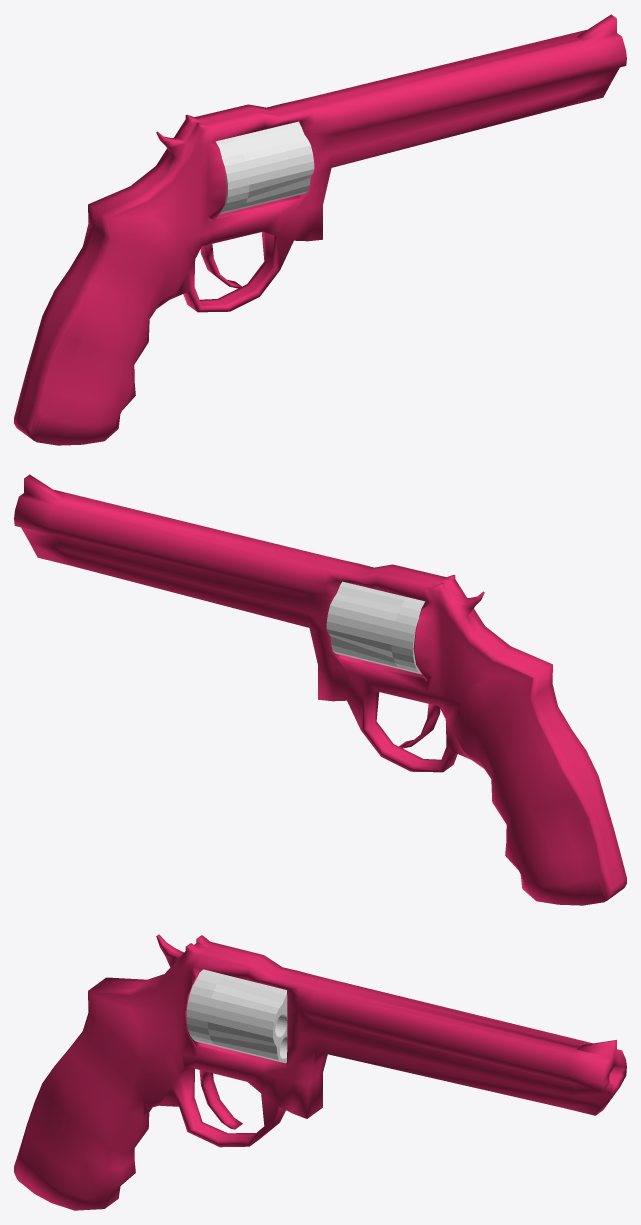
Rendered from gal.glb.
3 views of the same model, one above another, from view 1: azimuth 30°, elevation 25°; view 2: azimuth 150°, elevation 25°; view 3: azimuth 330°, elevation 25° (orthographic).
Parts seen in each view (by area): view 1: Cube, Cylinder; view 2: Cube, Cylinder; view 3: Cube, Cylinder.
Part boxes in pixels (bbox=[...]): Cube: bbox=[14, 14, 626, 445]; Cylinder: bbox=[215, 121, 314, 214]; Cube: bbox=[14, 474, 626, 905]; Cylinder: bbox=[326, 581, 425, 674]; Cube: bbox=[14, 934, 626, 1210]; Cylinder: bbox=[186, 969, 287, 1063].
Size of the model in its own units: 4.87 by 2.24 by 0.5953.
